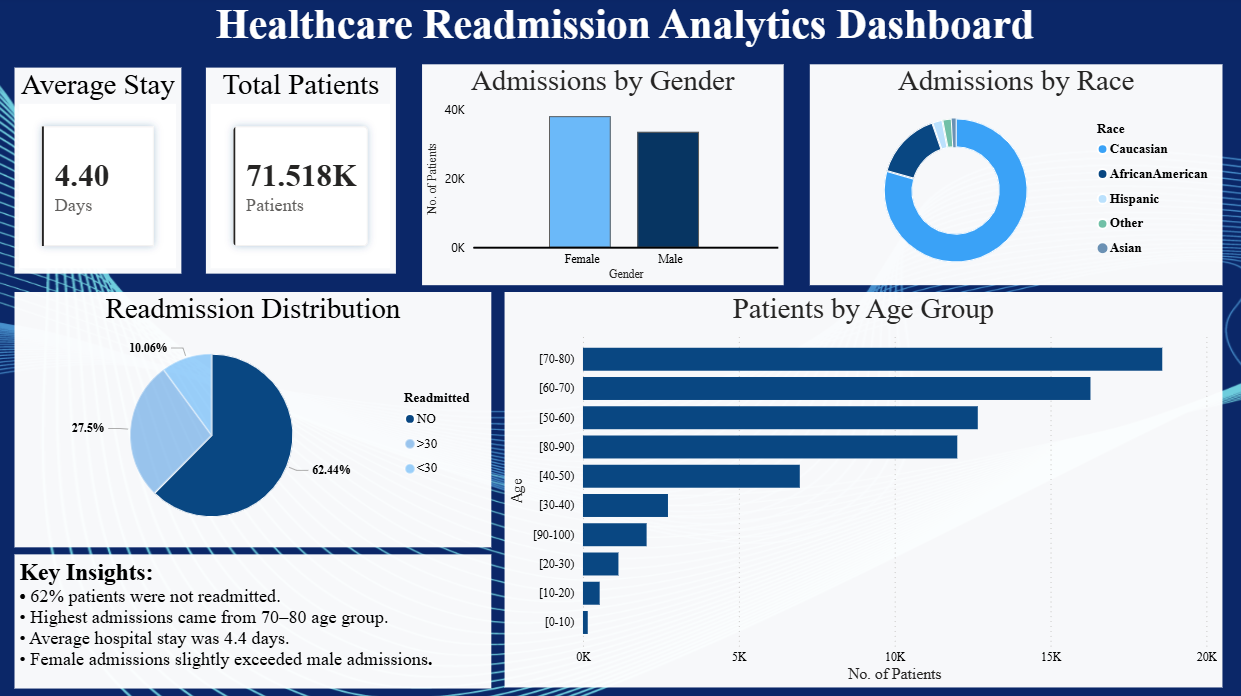

Layout of this report page (visuals, bound fields, positions):
{"tool":"powerbi","page":{"name":"Page 1","canvas":[1280,720],"ordinal":0},"visuals":[{"type":"cardVisual","title":"Total Patients","fields":{"Data":["Count(cleaned_healthcare_data.patient_nbr)"]},"box":[212.2,74.1,193.7,210.5],"z":0},{"type":"pieChart","title":"Readmission Distribution","fields":{"Category":["cleaned_healthcare_data.readmitted"],"Y":["Count(cleaned_healthcare_data.patient_nbr)"]},"box":[16.7,303.3,486.7,260.8],"z":1000},{"type":"cardVisual","title":"Average Stay","fields":{"Data":["Avg(cleaned_healthcare_data.time_in_hospital)"]},"box":[16.8,74.1,170.1,210.5],"z":2000},{"type":"barChart","title":"Patients by Age Group","fields":{"Category":["cleaned_healthcare_data.age"],"Y":["Count(cleaned_healthcare_data.patient_nbr)"]},"box":[517.5,303.8,732.5,403.8],"z":2001},{"type":"clusteredColumnChart","title":"Admissions by Gender","fields":{"Category":["cleaned_healthcare_data.gender"],"Y":["Count(cleaned_healthcare_data.patient_nbr)"]},"box":[432.8,70.7,368.8,225.7],"z":2003},{"type":"donutChart","title":"Admissions by Race","fields":{"Category":["cleaned_healthcare_data.race"],"Y":["Sum(cleaned_healthcare_data.patient_nbr)"]},"box":[828.6,70.7,421,225.7],"z":2005},{"type":"textbox","box":[0,0,1279.9,70.7],"z":2006},{"type":"textbox","box":[16.7,570.8,486.7,136.7],"z":2007}]}

Visuals, with their boxes in screenshot pixels (x1, y1, x2, y2), scaled from the page's 1280x720 canvas onto the 1241x696 screenshot:
"Total Patients" cardVisual: Rect(206, 72, 394, 275)
"Readmission Distribution" pieChart: Rect(16, 293, 488, 545)
"Average Stay" cardVisual: Rect(16, 72, 181, 275)
"Patients by Age Group" barChart: Rect(502, 294, 1212, 684)
"Admissions by Gender" clusteredColumnChart: Rect(420, 68, 777, 287)
"Admissions by Race" donutChart: Rect(803, 68, 1212, 287)
textbox: Rect(0, 0, 1240, 68)
textbox: Rect(16, 552, 488, 684)
